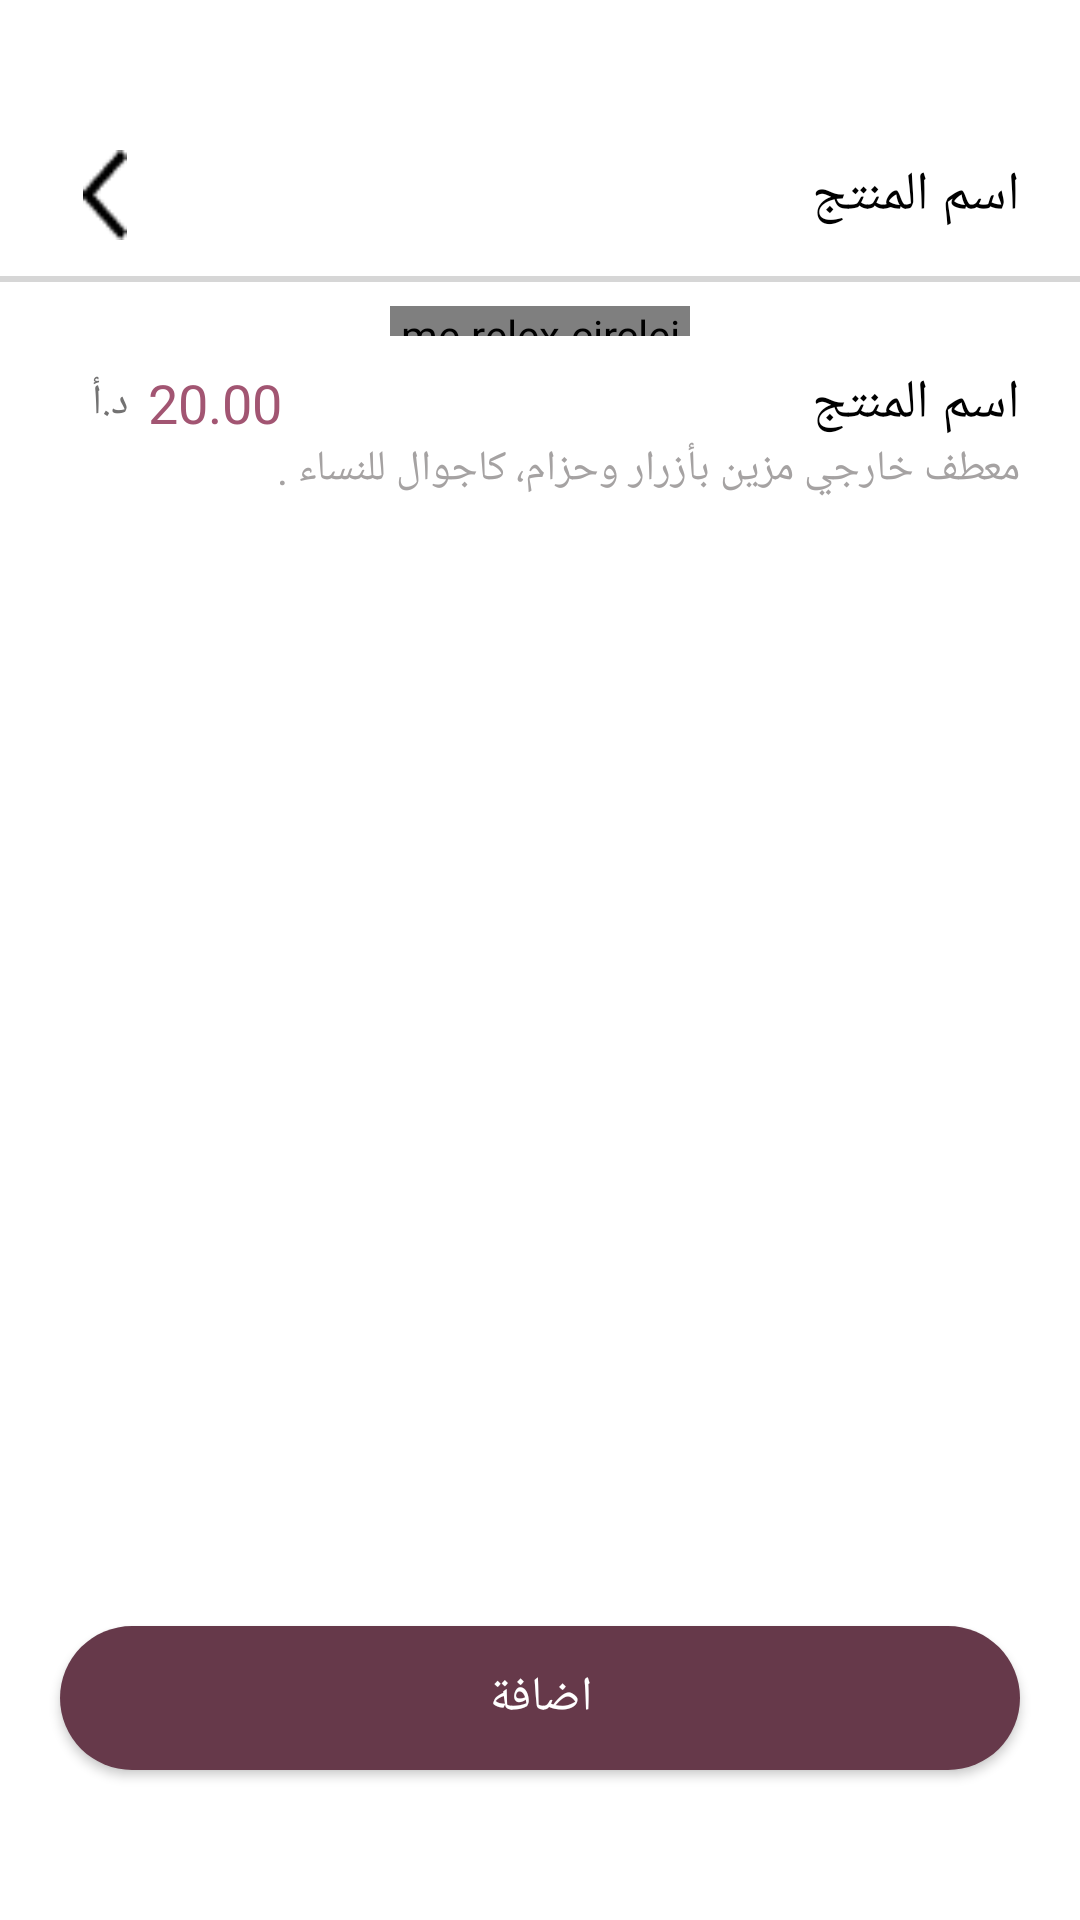

Icons on this 1080 x 1920 Android screen, each with its box as (x1, y1, x2, y2):
arrow to go back: (83, 150, 127, 240)
